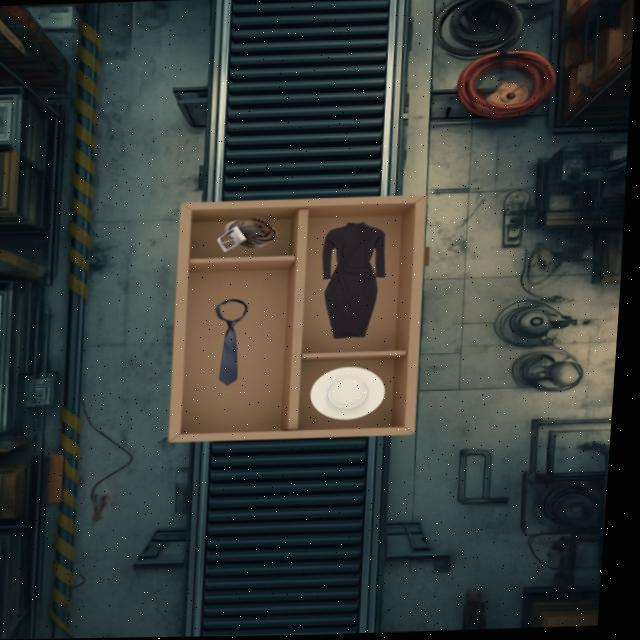belt: (217, 216, 278, 252)
dress: (322, 222, 385, 338)
hat: (311, 367, 384, 419)
tie: (216, 298, 248, 385)
